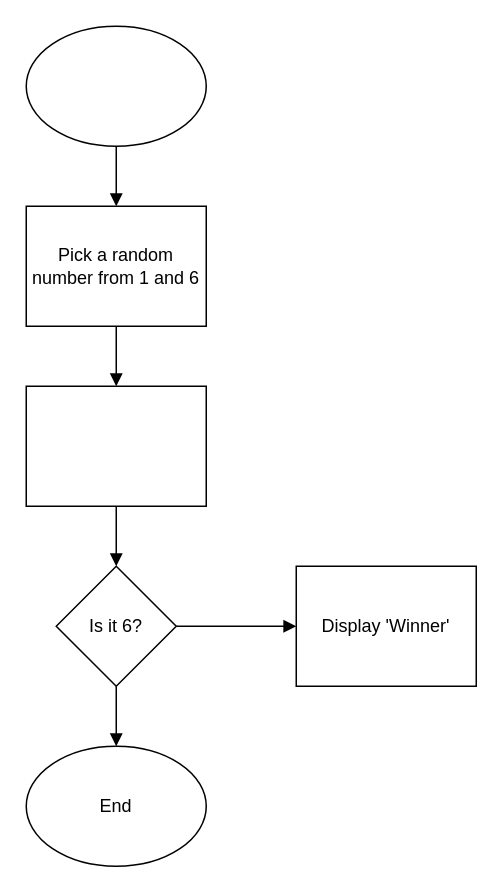
The diagram is 503 pixels wide and 893 high, and some of its shapes have lost their labels. The centre of each missing label's shape, as x and y in pixels:
Display the number: (115,445)
Start: (115,85)
